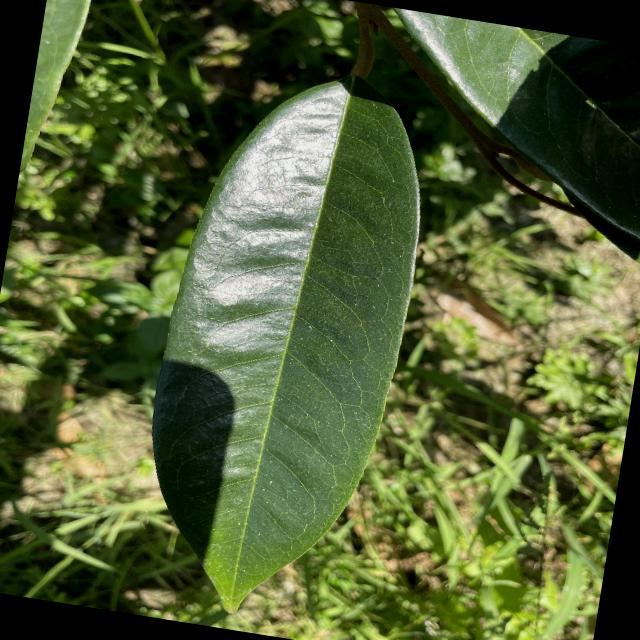No Disease: (110, 38, 453, 639)
